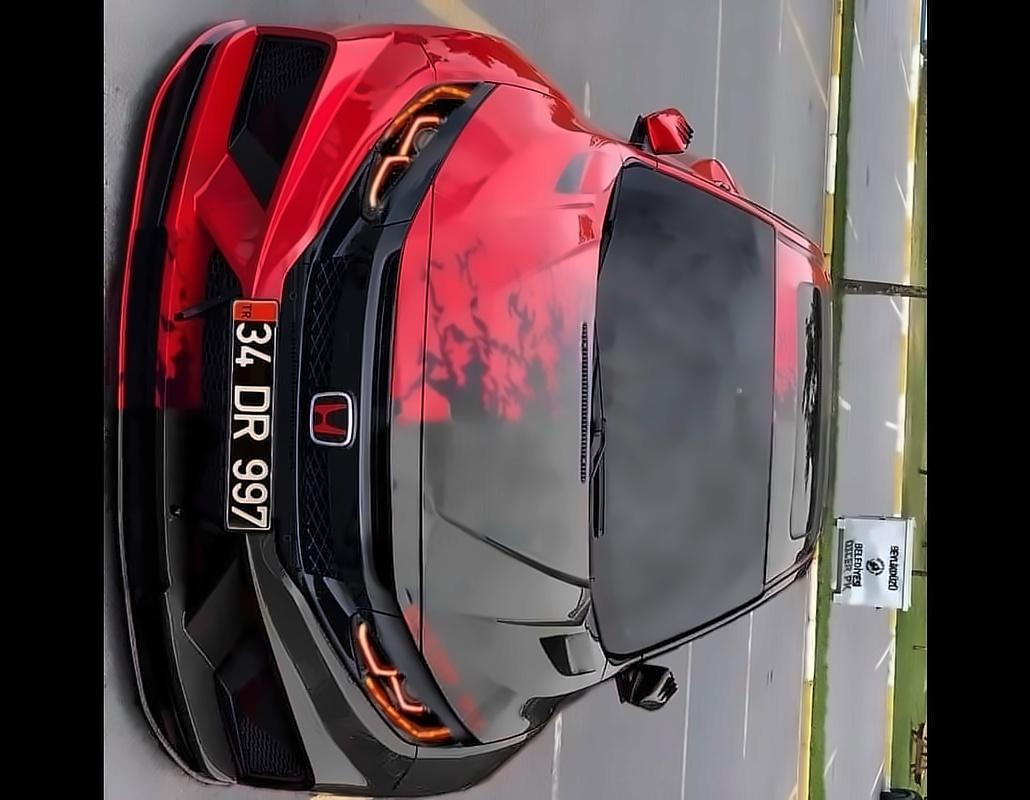Car hood: (380, 72, 626, 749)
Front bumper: (108, 6, 406, 800)
Headlight - -L-: (338, 594, 482, 758)
Headlight - -R-: (340, 68, 489, 231)
Side mirror - -L-: (594, 640, 688, 720)
Side mirror - -R-: (622, 90, 720, 171)
